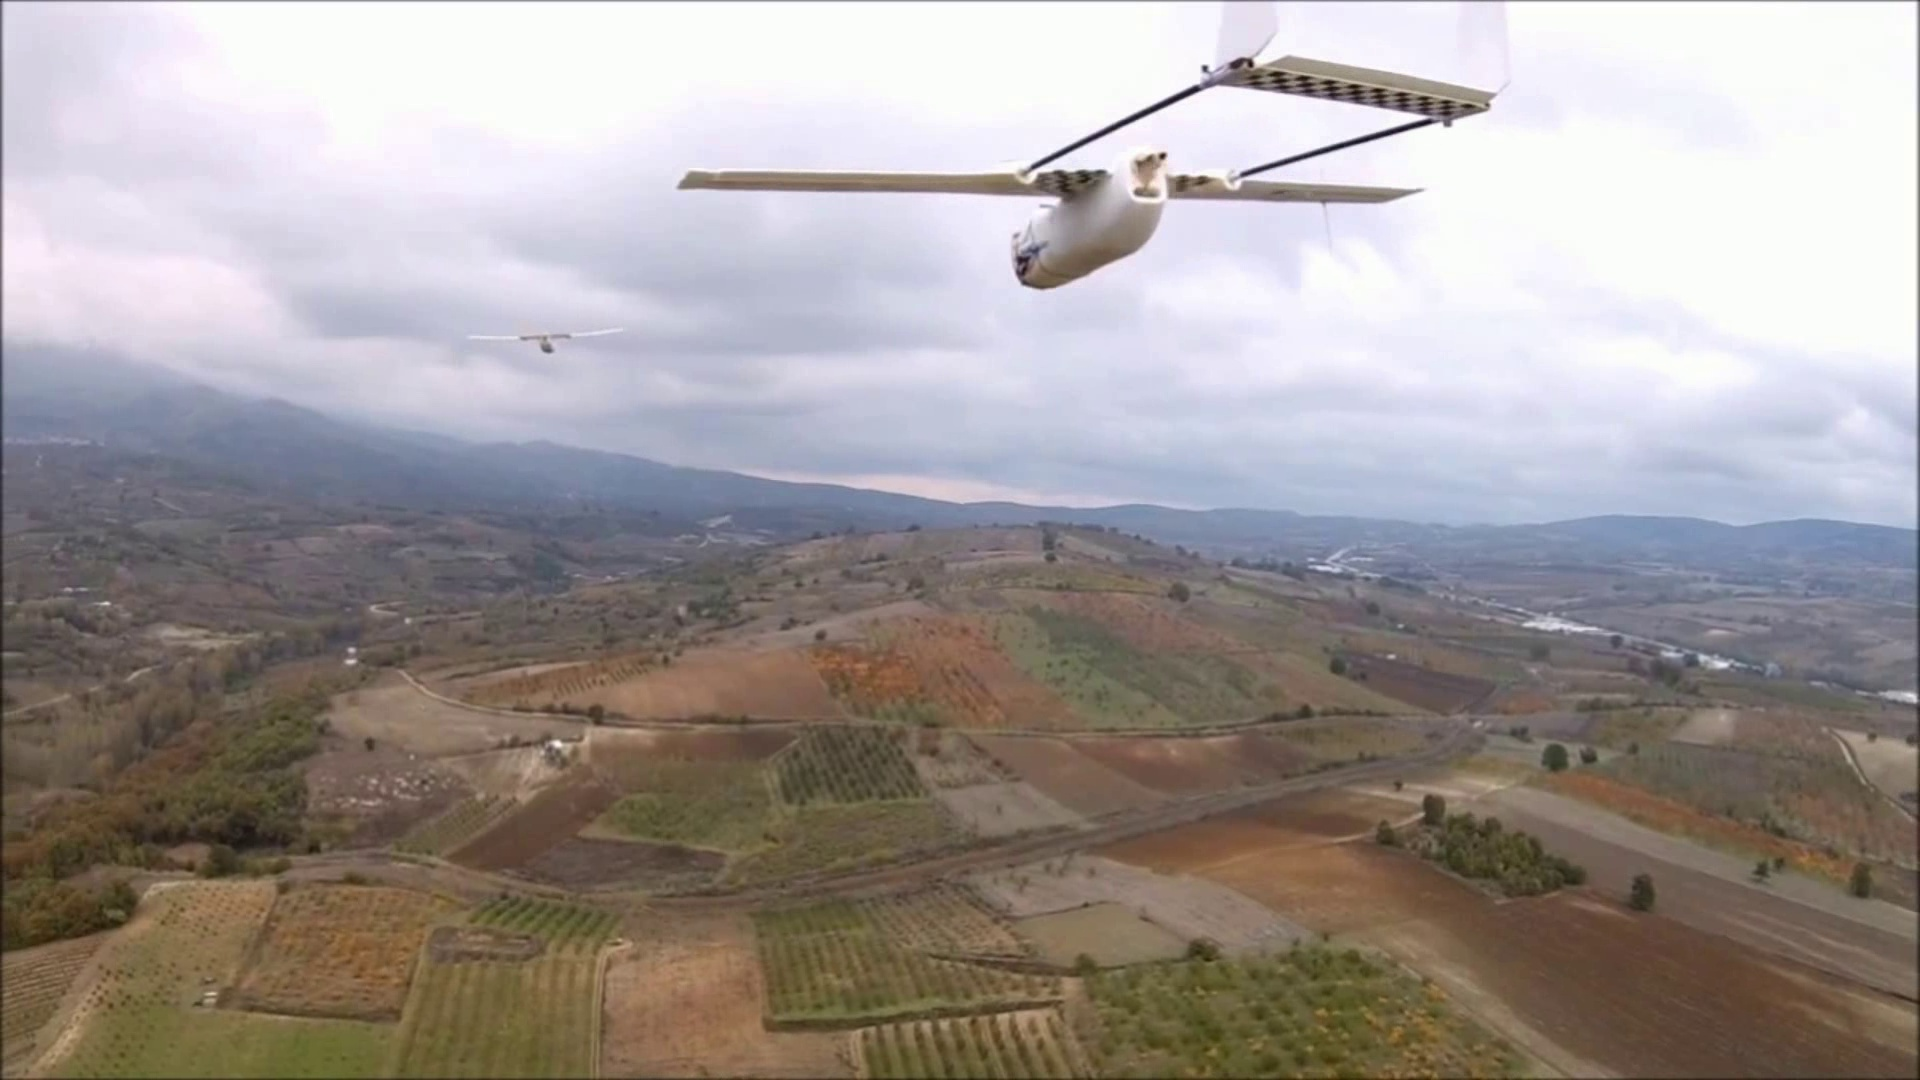airplane: (675, 7, 1509, 290)
